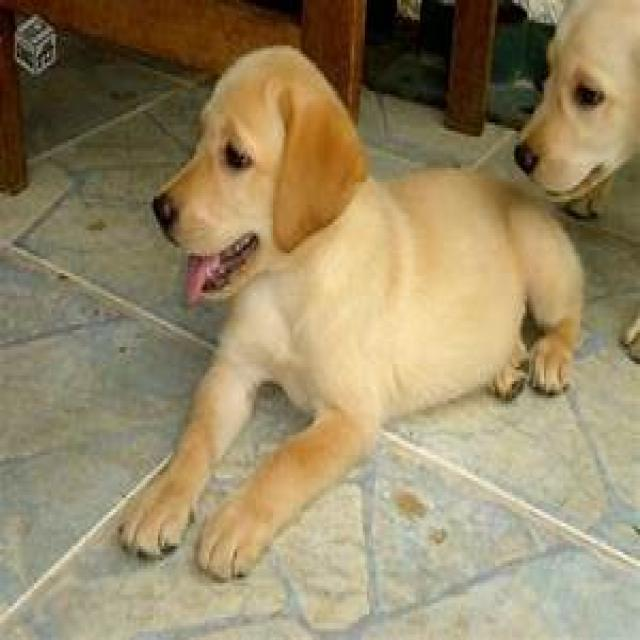KOPEK: (107, 31, 583, 580)
